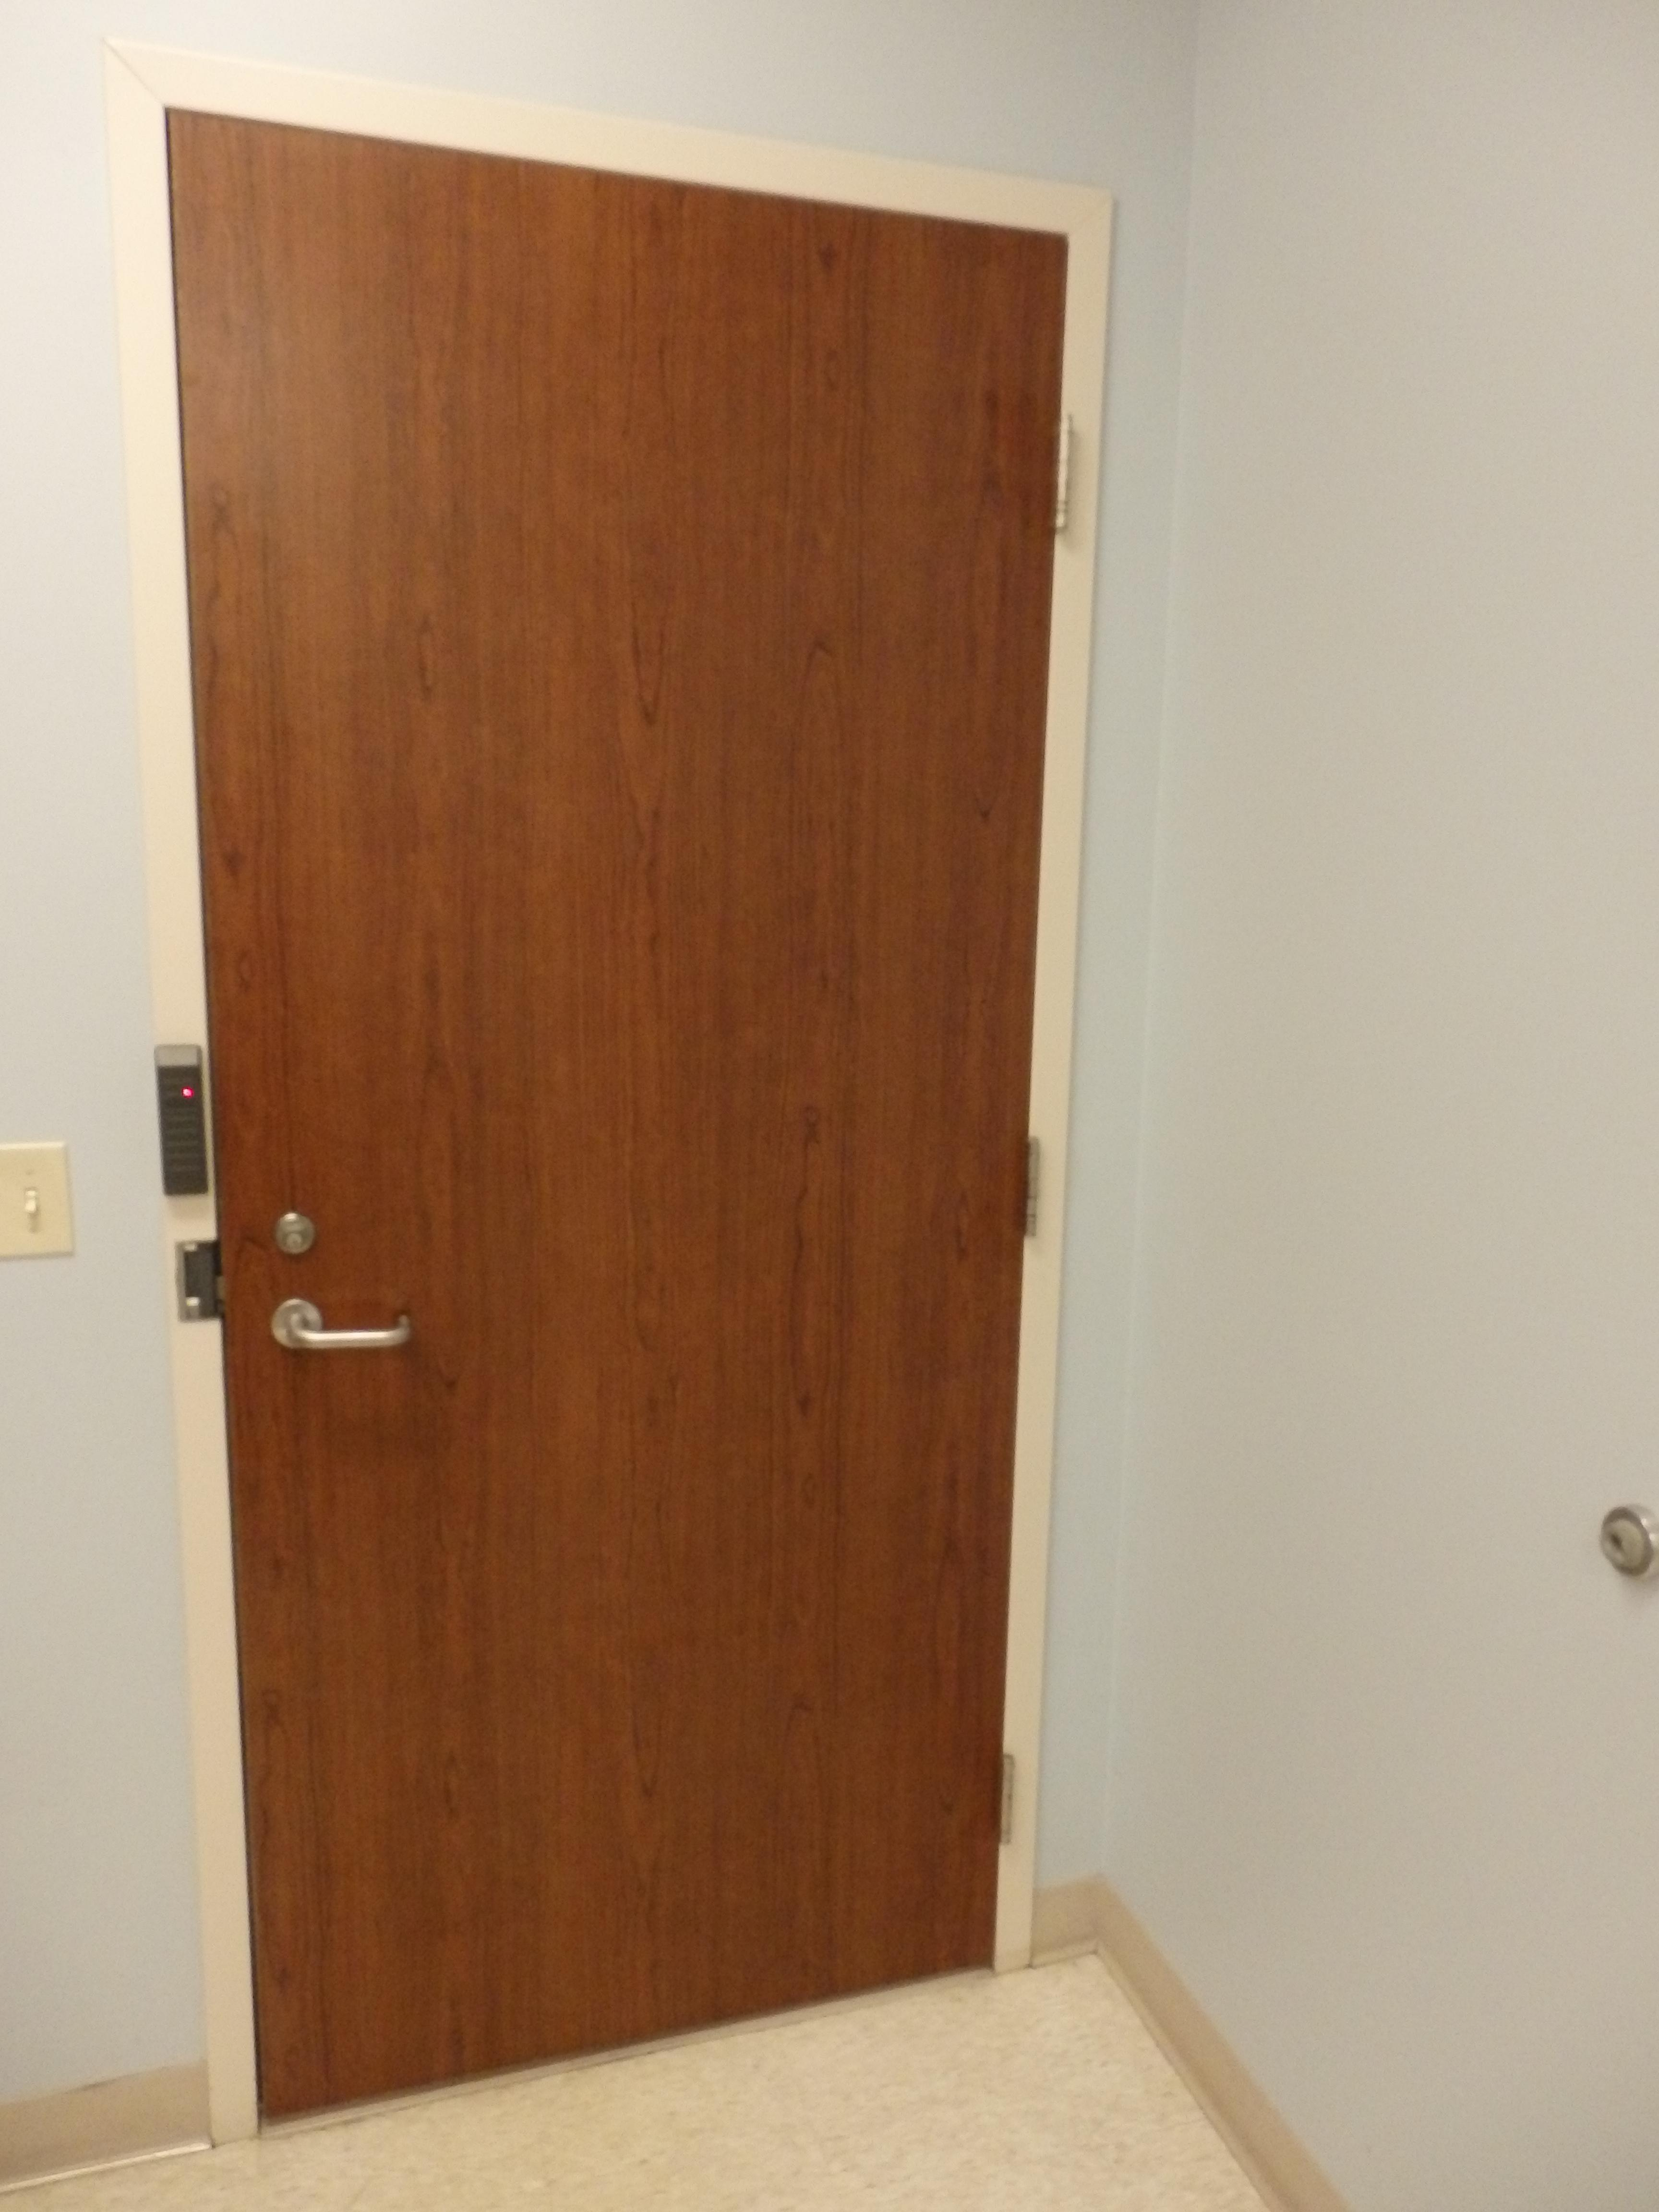door: (150, 101, 1021, 2062)
